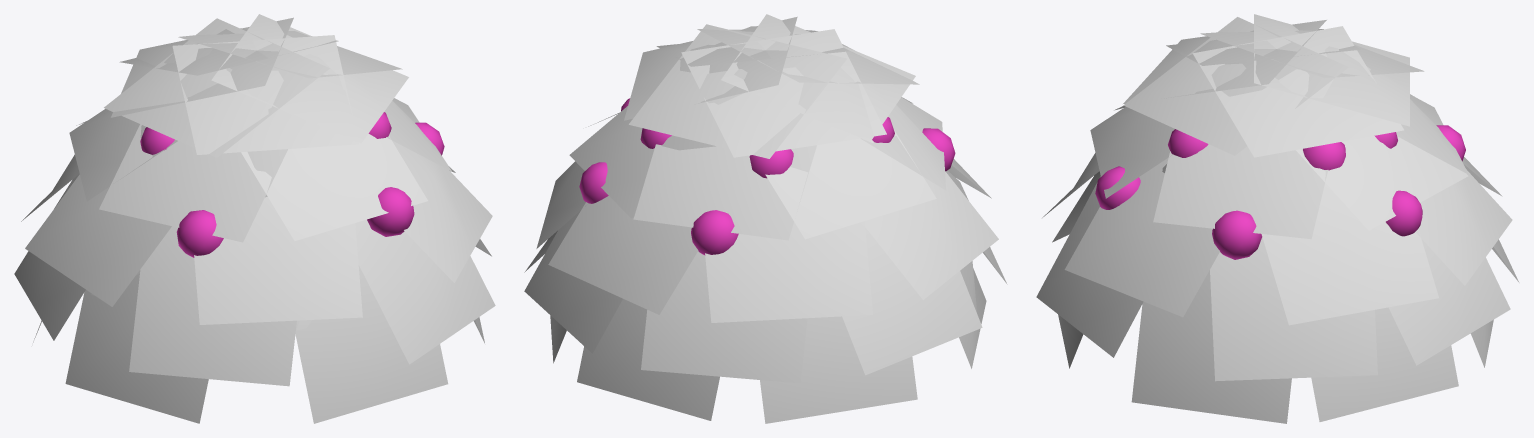
The model's file is groundFern.fbx.
3 renders of one model, left to right at view 1: azimuth 30°, elevation 25°; view 2: azimuth 150°, elevation 25°; view 3: azimuth 270°, elevation 25°, orthographic.
Parts seen in each view (by area): view 1: Plane.010, Plane.013, Plane.016, Plane.009, Plane.011, Plane.008, Plane.015, Plane.017, Plane.014, Plane.022, Plane.012, Plane.005 (+10 smaller); view 2: Plane.020, Plane.023, Plane.026, Plane.025, Plane.021, Plane.018, Plane.019, Plane.027, Plane.015, Plane.002, Plane.024, Plane.022 (+12 smaller); view 3: Plane.003, Plane, Plane.005, Plane.006, Plane.004, Plane.007, Plane.012, Plane.001, Plane.029, Plane.028, Plane.025, Plane.008 (+15 smaller).
Boxes of the visible parts, x1,y1,x2,y2 form: Plane.010: (194,197,362,324); Plane.013: (129,226,296,386); Plane.016: (99,124,287,242); Plane.009: (295,265,448,423); Plane.011: (241,133,427,240); Plane.008: (355,219,495,364); Plane.015: (25,174,171,306); Plane.017: (172,35,358,154); Plane.014: (65,273,208,423); Plane.022: (104,18,329,157); Plane.012: (211,14,408,143); Plane.005: (392,140,492,282); Plane.020: (705,221,872,322); Plane.023: (641,251,807,383); Plane.026: (633,144,816,240); Plane.025: (548,196,698,314); Plane.021: (765,129,936,239); Plane.018: (842,227,982,375); Plane.019: (760,316,917,423); Plane.027: (681,29,886,157); Plane.015: (861,171,998,299); Plane.002: (629,24,846,158); Plane.024: (577,299,719,420); Plane.022: (721,14,915,141); Plane.003: (1210,237,1377,381); Plane: (1261,183,1438,325); Plane.005: (1064,158,1219,317); Plane.006: (1153,144,1327,239); Plane.004: (1131,270,1291,423); Plane.007: (1192,26,1403,157); Plane.012: (1123,17,1348,155); Plane.001: (1296,131,1468,230); Plane.029: (1311,307,1458,421); Plane.028: (1388,239,1510,365); Plane.025: (1415,169,1512,285); Plane.008: (1036,176,1143,357).
Bounding box in the file's own units: 83.19 × 53.35 × 84.
